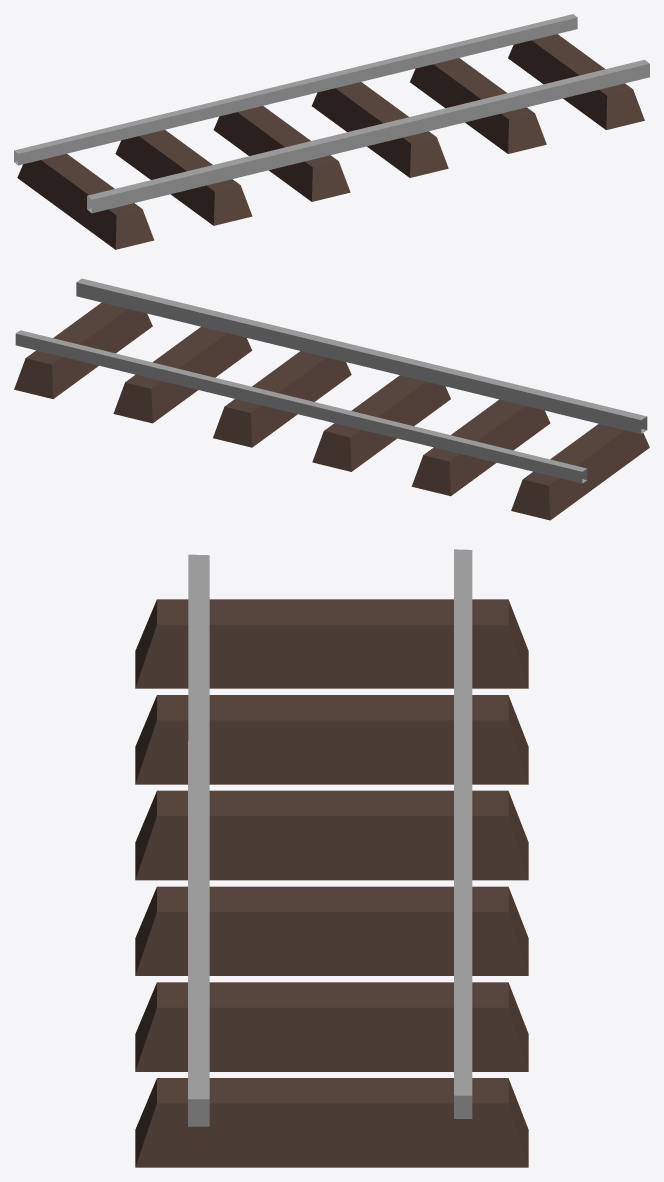
The model's file is rails.fbx.
The picture shows the model from 3 angles, top to bottom: view 1: azimuth 30°, elevation 25°; view 2: azimuth 150°, elevation 25°; view 3: azimuth 270°, elevation 25°; orthographic projection. The views are drawn at different scales.
Parts seen in each view (by area): view 1: polySurface422; view 2: polySurface422; view 3: polySurface422.
Boxes of the visible parts, box(x1,y1,x2,y2) form: polySurface422: box(14, 14, 649, 249); polySurface422: box(14, 278, 649, 520); polySurface422: box(135, 549, 528, 1167).
Bounding box in the file's own units: 5086 × 370 × 1532.
